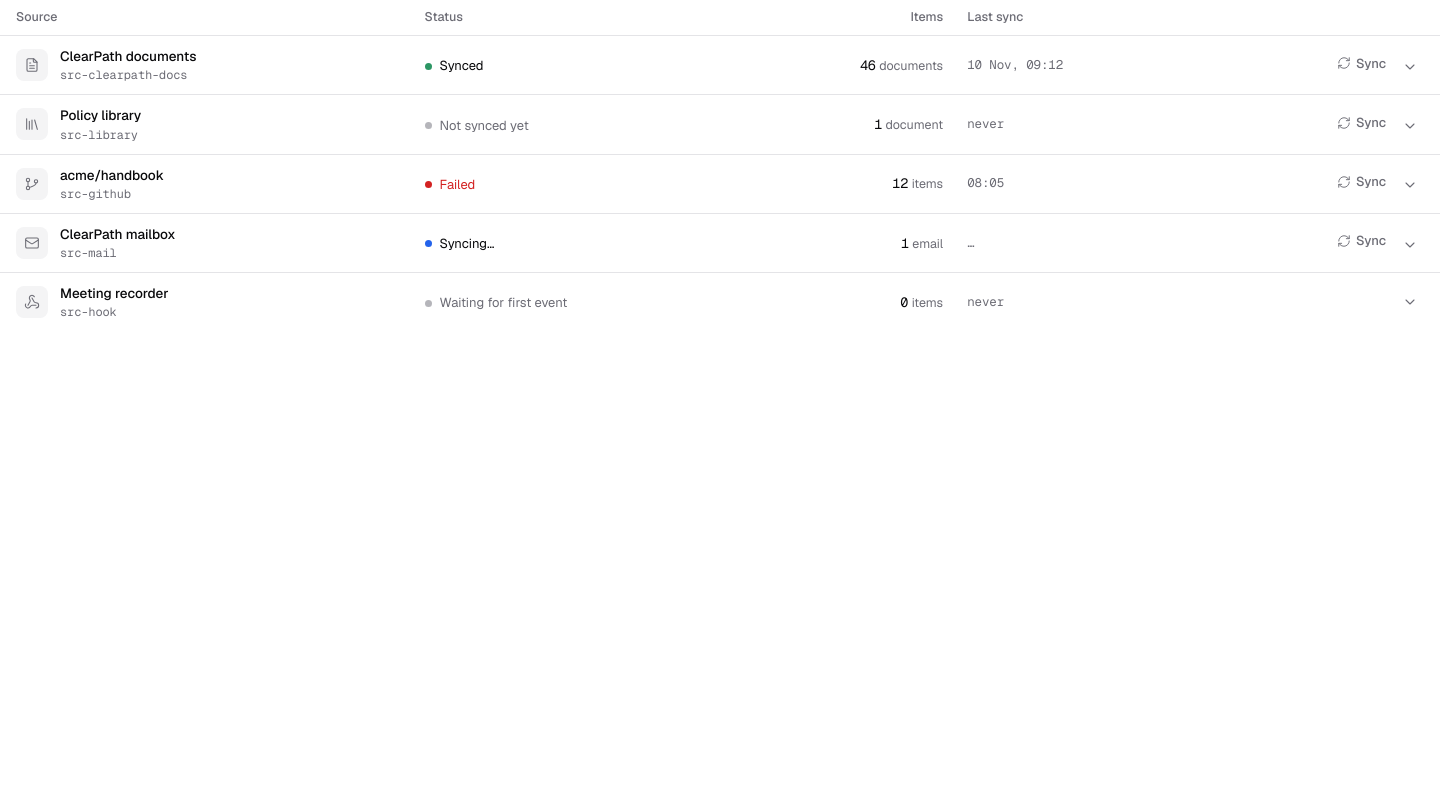
SourcesTable › expanding a source › opens from anywhere on the row and closes from the chevron
Later steps or results of the test are not shown.
Check: the text "ClearPath documents" is shown, box [60,46,196,66]
Click the text "Failed": (450, 185) [424,175,475,194]
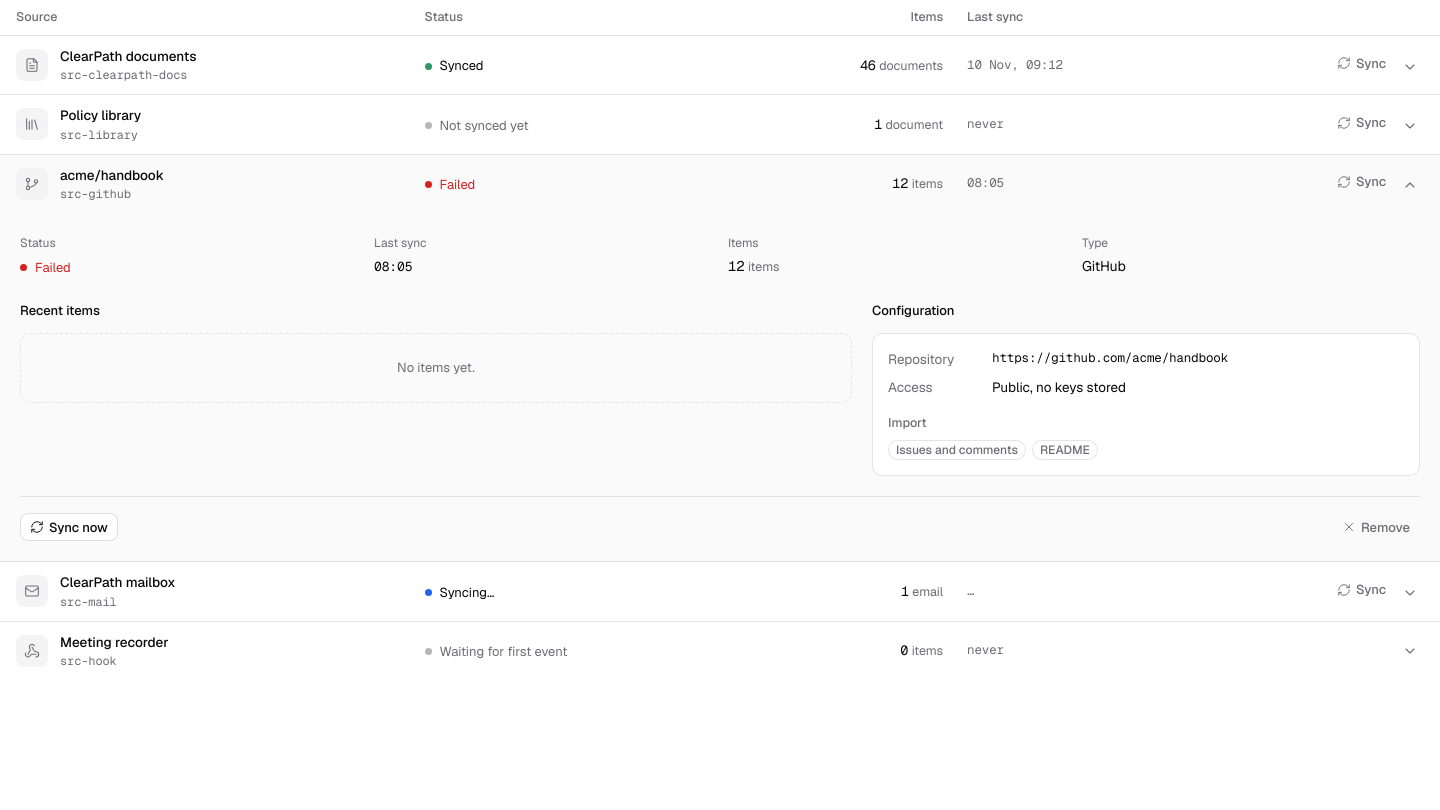
Check: the button named "acme/handbook" is expanded, box [1396,171,1424,199]
